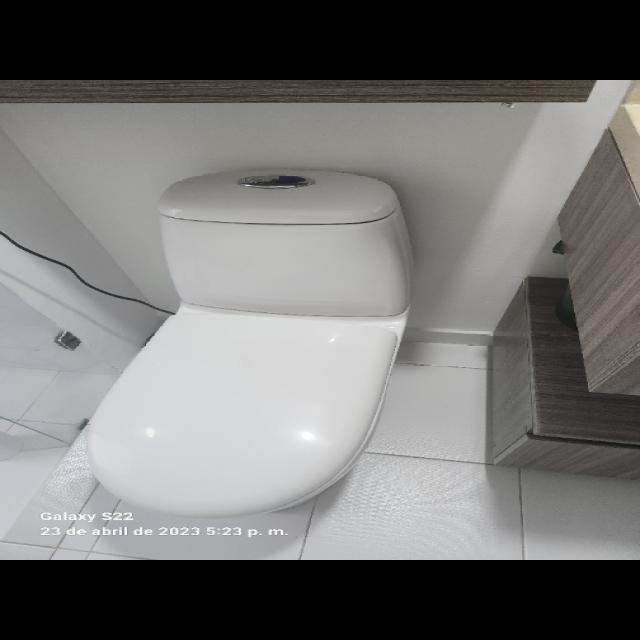toilet: (84, 167, 413, 518)
